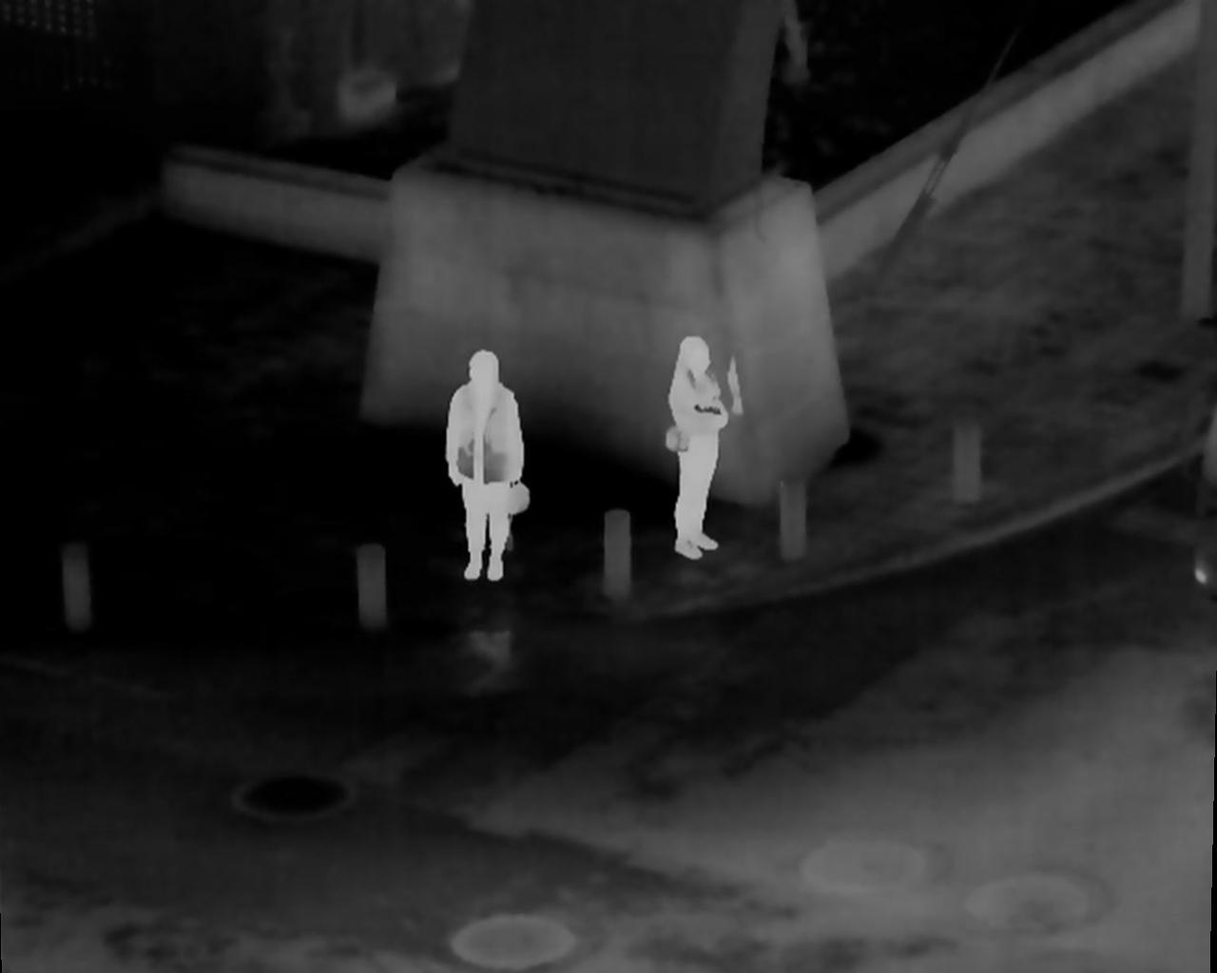person: (445, 346, 520, 579), (666, 334, 724, 563)
